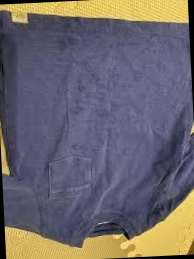oil: (76, 79, 93, 102), (67, 141, 84, 153)
